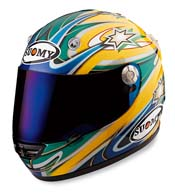helmet: (15, 20, 161, 171)
